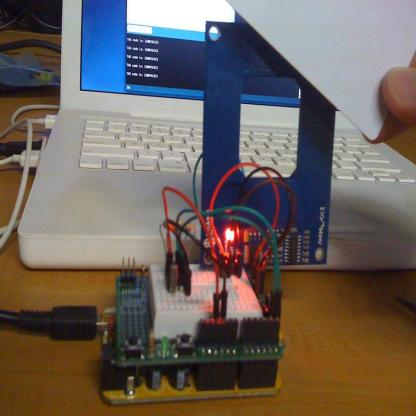board: (17, 0, 416, 274)
